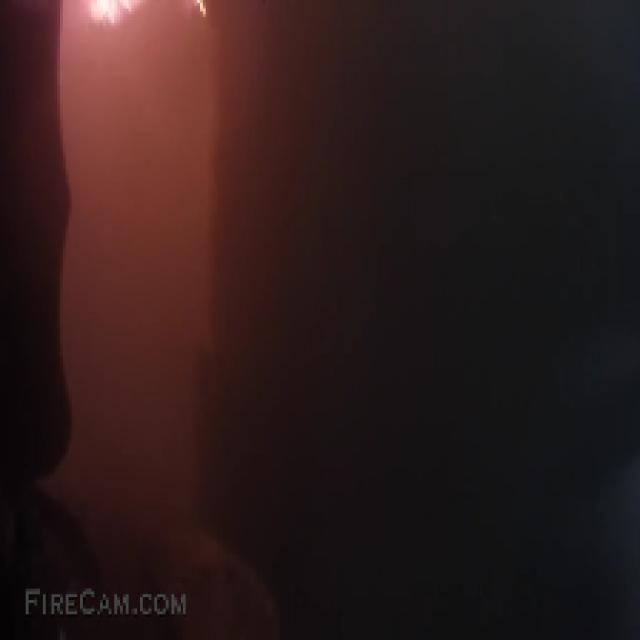Fire: (60, 2, 214, 32)
Smoke: (60, 3, 637, 640)
